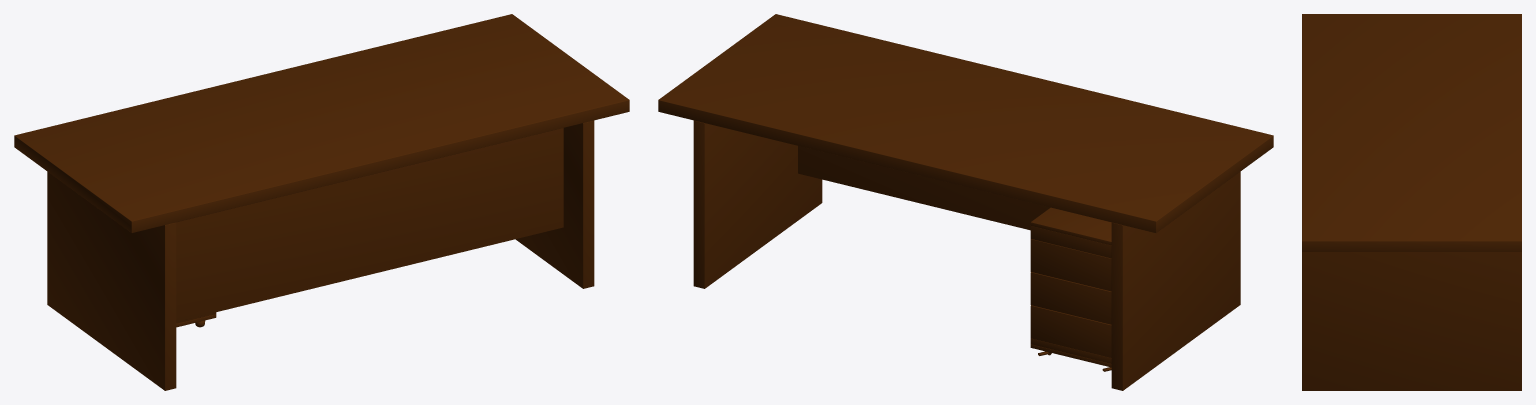
Rendered from desk_exec.glb.
The picture shows the model from 3 angles, left to right: view 1: azimuth 30°, elevation 25°; view 2: azimuth 150°, elevation 25°; view 3: azimuth 270°, elevation 25°; orthographic projection. The views are drawn at different scales.
Visible parts, largest first — view 1: Object_40; view 2: Object_40; view 3: Object_40.
Part boxes in pixels (x1,y1,x2,y2): Object_40: [14, 14, 629, 390]; Object_40: [658, 14, 1273, 390]; Object_40: [1302, 14, 1521, 390].
Bounding box in the file's own units: 88 × 30 × 36.
